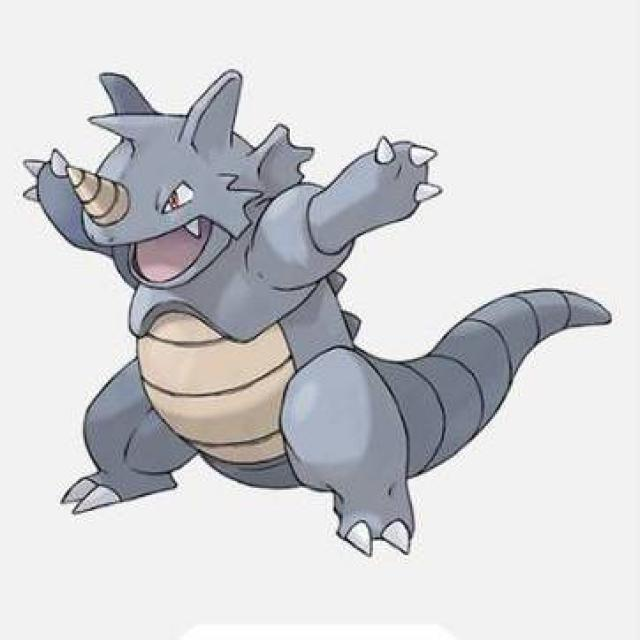Rhydon: (44, 77, 478, 518)
